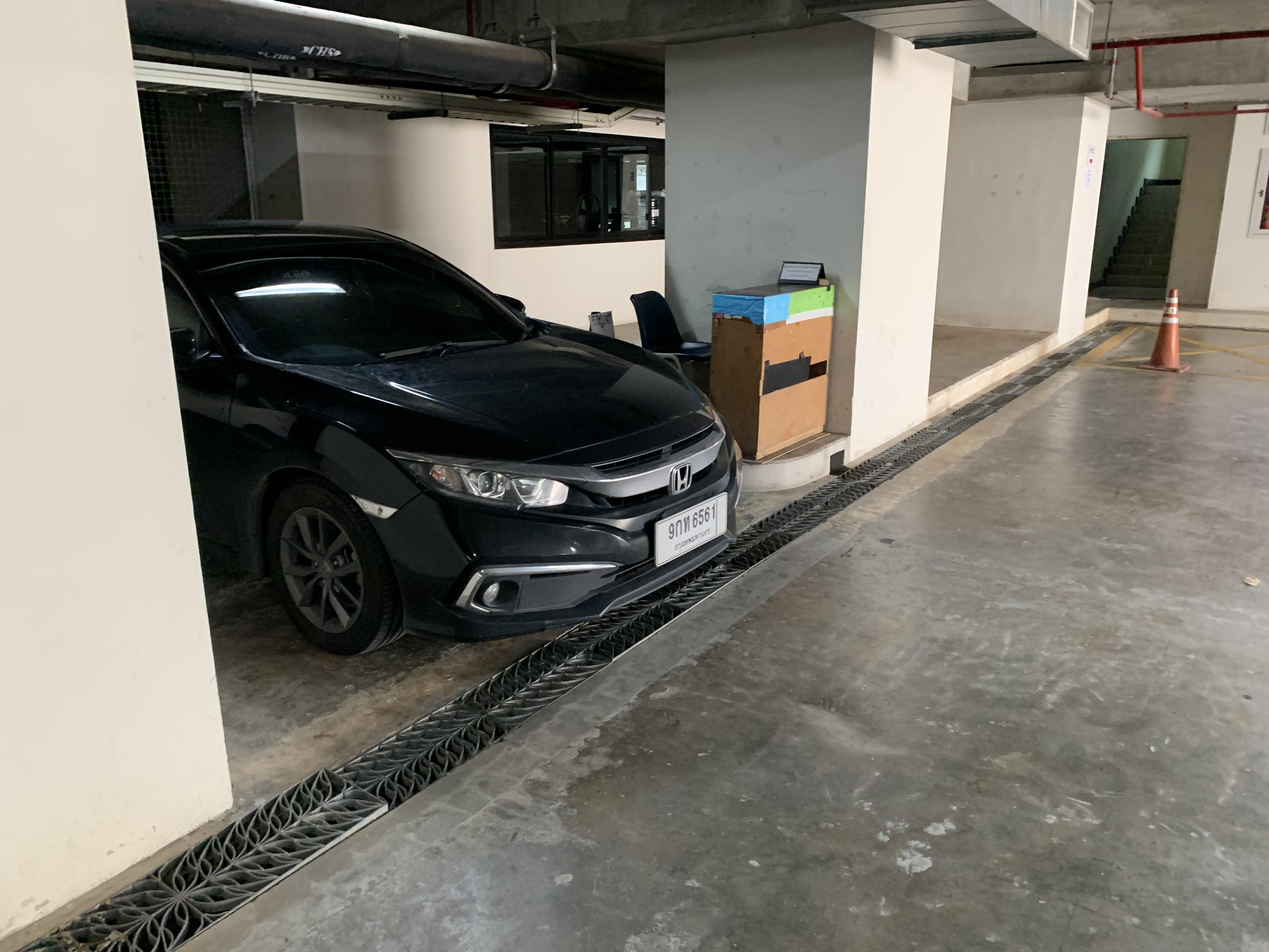license-plate: (650, 488, 732, 572)
